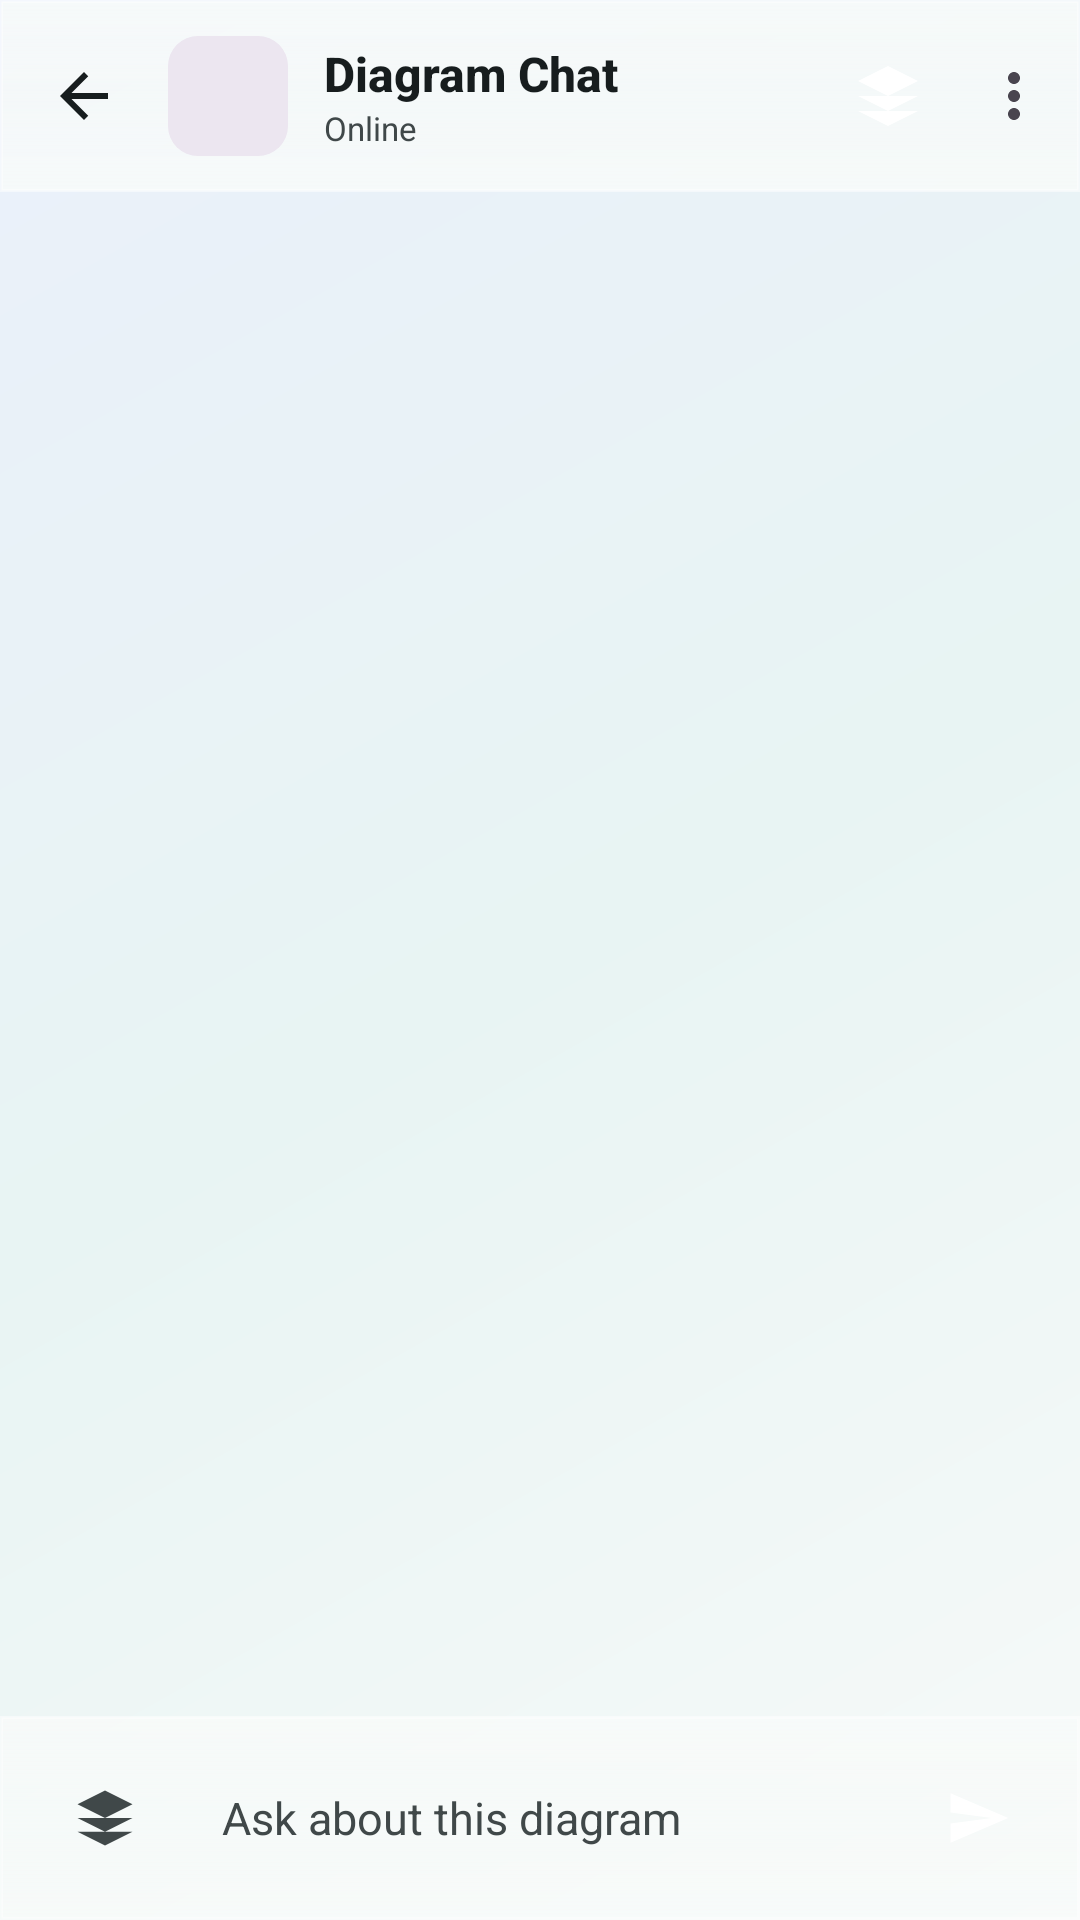

Icons on this 1080 × 1920 Android screen, each with the point to tap as [x,y]:
Change diagram: [105,1818]
